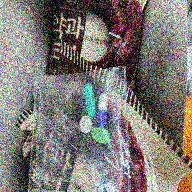러키펜정: (79, 116, 93, 135)
씨엠지세파클러캡슐: (96, 93, 108, 128)
에르도캡슐: (84, 83, 98, 120)
휴티렌정: (91, 127, 111, 145)
